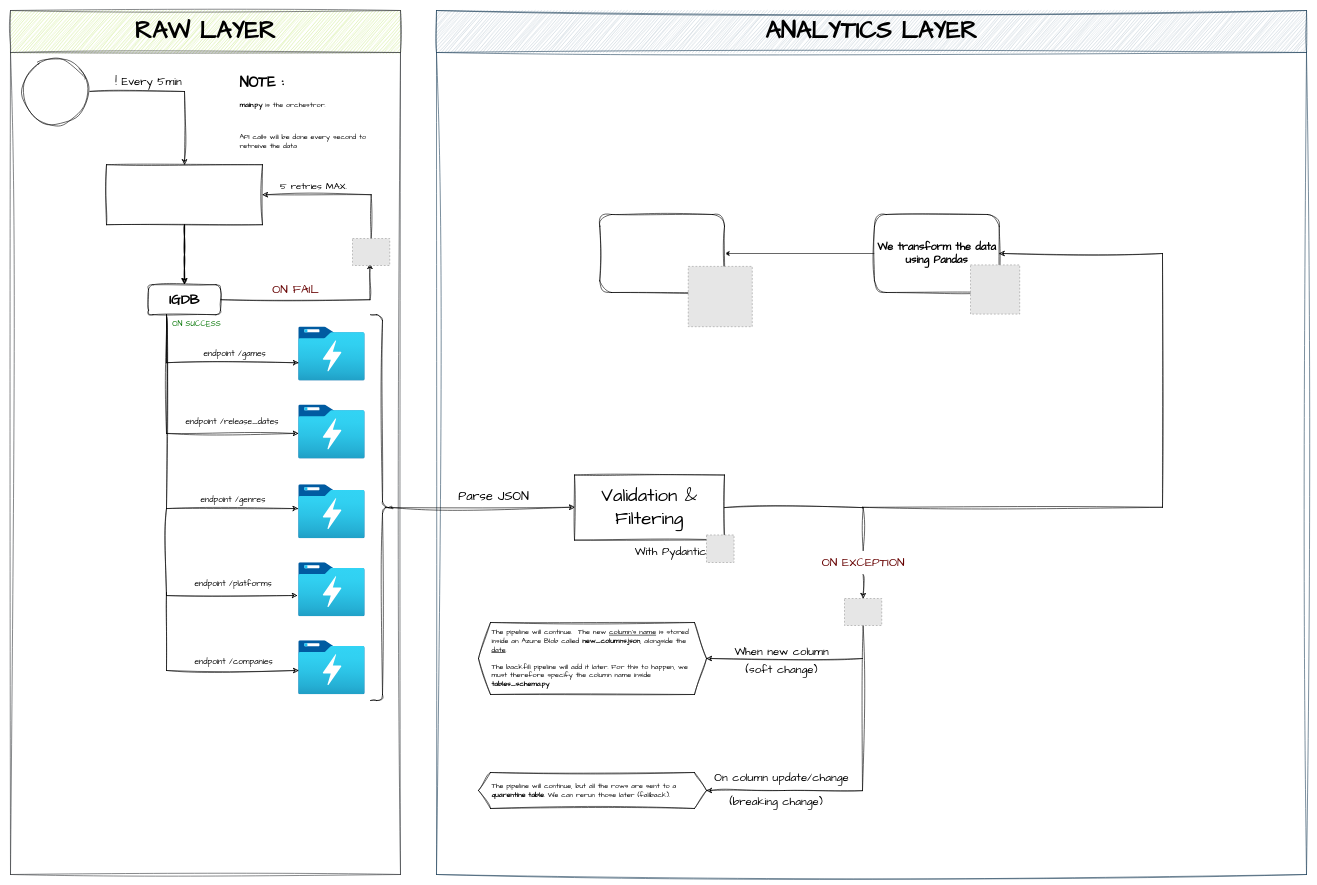
This 1317x885 diagram has some shape labels left out. Grey dashed boxes stand in for pictures. Here are the shapes that lost their labels. From the top down, the centre of each, then its label:
At point 55,91: "main.py".
At point 184,194: "Call REST API".
At point 661,253: "We dump everything into Postgres".
